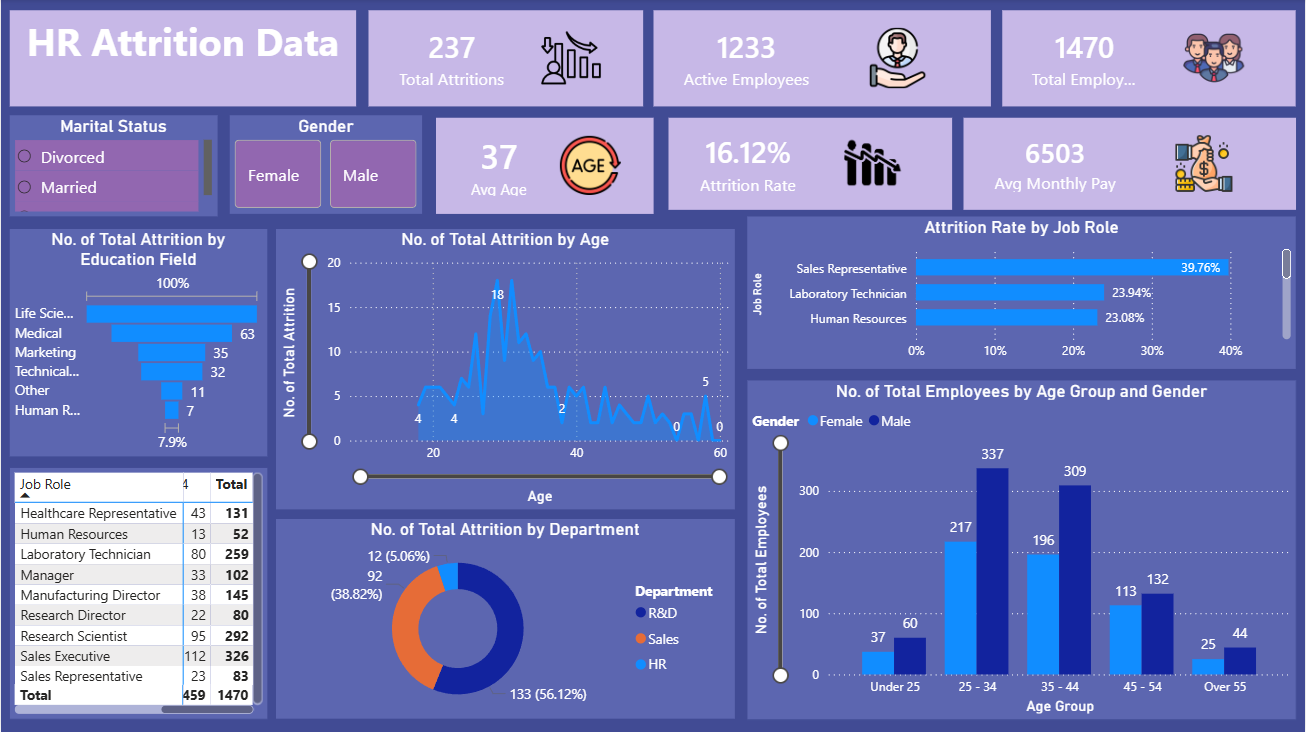

Layout of this report page (visuals, bound fields, positions):
{"tool":"powerbi","page":{"name":"Dashboard","canvas":[1280,720],"ordinal":0},"visuals":[{"type":"cardVisual","fields":{"Data":["Sum(HR data.Employee Count)"]},"box":[982.8,11,288.3,94.5],"z":0},{"type":"cardVisual","fields":{"Data":["Sum(HR data.Attrition Count)"]},"box":[360.7,11,269.9,94.5],"z":1000},{"type":"cardVisual","fields":{"Data":["HR data.Attrition Rate"]},"box":[655.2,116.6,278.5,90.8],"z":2000},{"type":"cardVisual","fields":{"Data":["HR data.Active Employees"]},"box":[640.5,11,331.3,94.5],"z":3000},{"type":"cardVisual","fields":{"Data":["Avg(HR data.Age)"]},"box":[427,116.6,213.5,94.5],"z":4000},{"type":"cardVisual","fields":{"Data":["Avg(HR data.Monthly Income)"]},"box":[944.8,116.6,326.4,90.8],"z":5000},{"type":"textbox","box":[8.6,11,339.9,94.5],"z":6000},{"type":"clusteredColumnChart","fields":{"Category":["HR data.Age Group"],"Y":["HR data.No. of Total Employees"],"Series":["HR data.Gender"]},"box":[732.5,374.2,538.7,332.5],"z":7000},{"type":"areaChart","fields":{"Category":["HR data.Age"],"Y":["HR data.No. of Total Attrition"]},"box":[269.9,225.8,450.3,274.8],"z":8000},{"type":"donutChart","fields":{"Category":["HR data.Department"],"Y":["HR data.No. of Total Attrition"]},"box":[269.9,510.4,450.3,196.3],"z":9000},{"type":"barChart","fields":{"Category":["HR data.Job Role"],"Y":["HR data.Attrition Rate"]},"box":[732.5,213.5,538.7,149.7],"z":9001},{"type":"pivotTable","fields":{"Rows":["HR data.Job Role"],"Columns":["HR data.Job Satisfaction"],"Values":["HR data.No. of Total Employees"]},"box":[8.6,460.1,252.8,246.6],"z":9002},{"type":"funnel","fields":{"Category":["HR data.Education Field"],"Y":["HR data.No. of Total Attrition"]},"box":[8.6,225.8,252.8,223.3],"z":9003},{"type":"advancedSlicerVisual","fields":{"Values":["HR data.Gender"]},"box":[224.5,114.1,189,96.9],"z":9004},{"type":"listSlicer","fields":{"Values":["HR data.Marital Status"]},"box":[8.6,114.1,203.7,99.4],"z":9005}]}

Visuals, with their boxes in screenshot pixels (x1, y1, x2, y2), scaled from the page's 1280x720 canvas onto the 1306x732 screenshot:
cardVisual - Sum(HR data.Employee Count): [1003,11,1297,107]
cardVisual - Sum(HR data.Attrition Count): [368,11,643,107]
cardVisual - HR data.Attrition Rate: [669,119,953,211]
cardVisual - HR data.Active Employees: [654,11,992,107]
cardVisual - Avg(HR data.Age): [436,119,654,215]
cardVisual - Avg(HR data.Monthly Income): [964,119,1297,211]
textbox: [9,11,356,107]
clusteredColumnChart - HR data.Age Group x HR data.No. of Total Employees: [747,380,1297,718]
areaChart - HR data.Age x HR data.No. of Total Attrition: [275,230,735,509]
donutChart - HR data.Department x HR data.No. of Total Attrition: [275,519,735,718]
barChart - HR data.Job Role x HR data.Attrition Rate: [747,217,1297,369]
pivotTable - HR data.Job Role x HR data.Job Satisfaction: [9,468,267,718]
funnel - HR data.Education Field x HR data.No. of Total Attrition: [9,230,267,457]
advancedSlicerVisual - HR data.Gender: [229,116,422,215]
listSlicer - HR data.Marital Status: [9,116,217,217]
